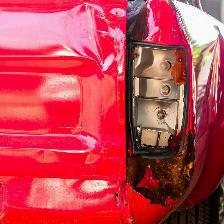tail_lamp: (126, 46, 197, 201)
